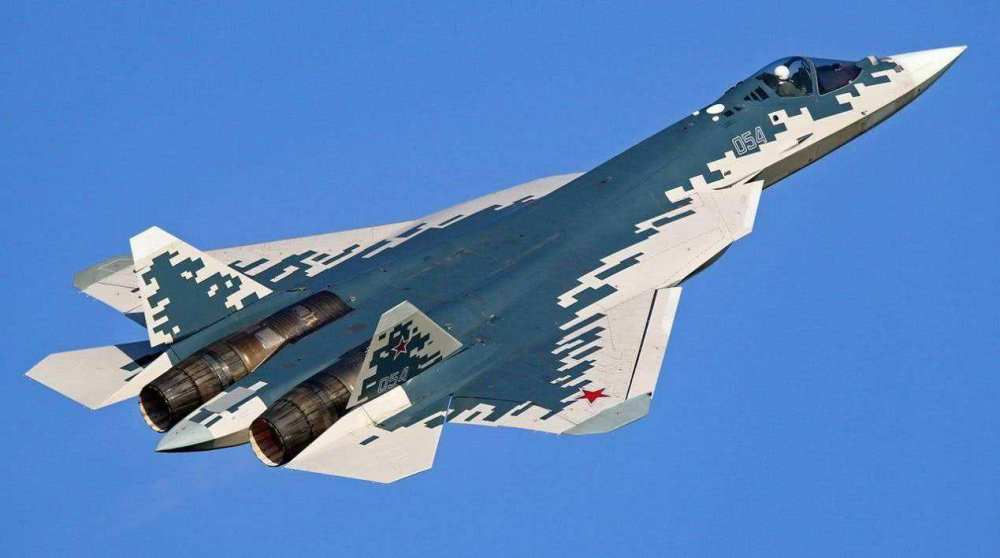airplane: (16, 45, 971, 482)
